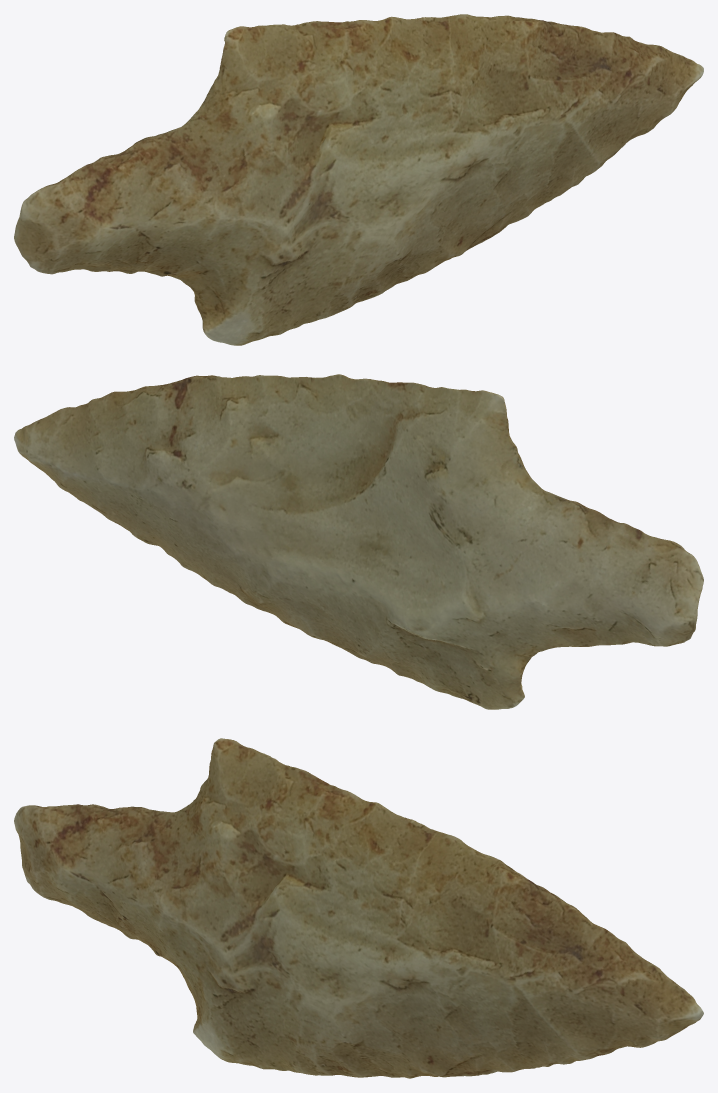
The model's file is piece-009.glb.
3 renders of one model, top to bottom at view 1: azimuth 30°, elevation 25°; view 2: azimuth 150°, elevation 25°; view 3: azimuth 330°, elevation 25°, orthographic.
Visible parts, largest first — view 1: Object_3, Object_4; view 2: Object_3, Object_4; view 3: Object_3, Object_4.
Boxes of the visible parts, x1=… form: Object_3: x1=14, y1=16, x2=700, y2=345; Object_4: x1=18, y1=14, x2=703, y2=345; Object_3: x1=14, y1=374, x2=703, y2=709; Object_4: x1=15, y1=374, x2=698, y2=708; Object_3: x1=14, y1=738, x2=703, y2=1078; Object_4: x1=14, y1=738, x2=702, y2=1078.
Bounding box in the file's own units: 1.05 × 0.466 × 0.1341.
Materials: 1 (1 with a texture image).
